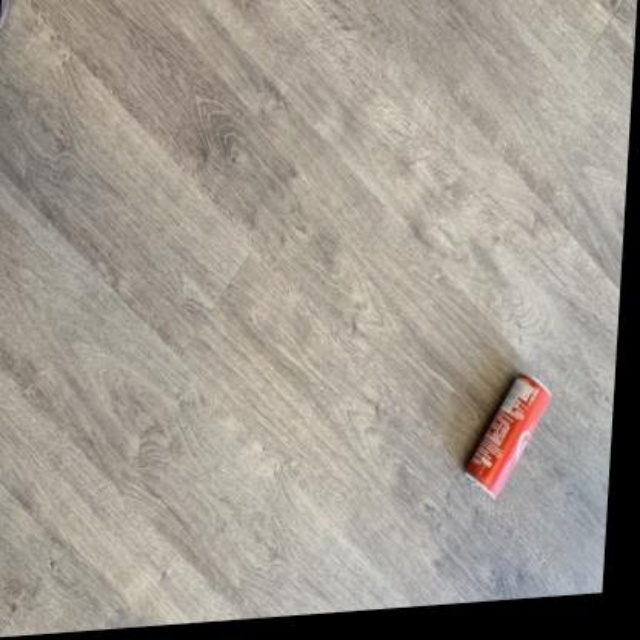trash: (468, 372, 551, 497)
